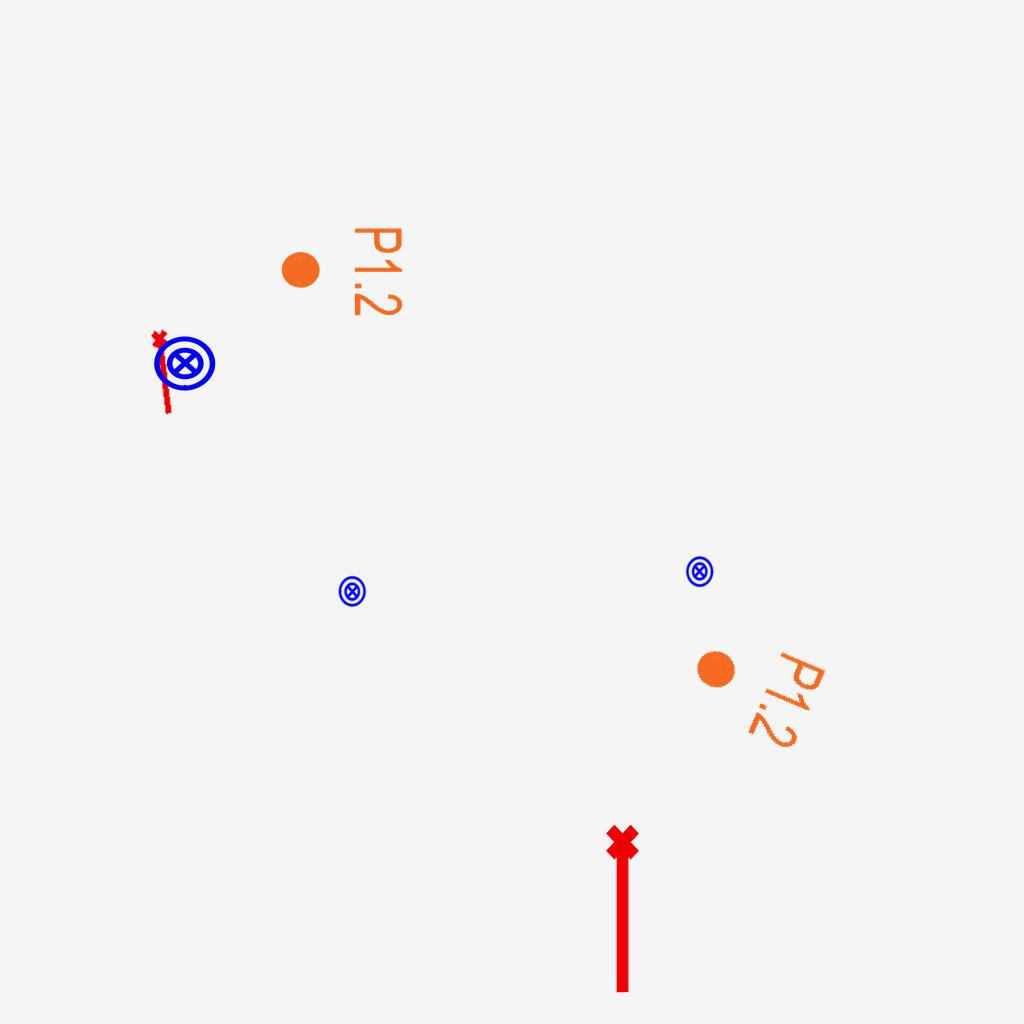ASR_Ansaugoeffnung: (602, 822, 648, 998), (148, 327, 182, 418)
Downlight_LED_Einbauleuchten_Flur: (676, 619, 831, 755), (278, 225, 406, 318)
Taster_beleuchtet: (152, 330, 218, 396), (336, 575, 369, 608), (683, 555, 716, 588)
